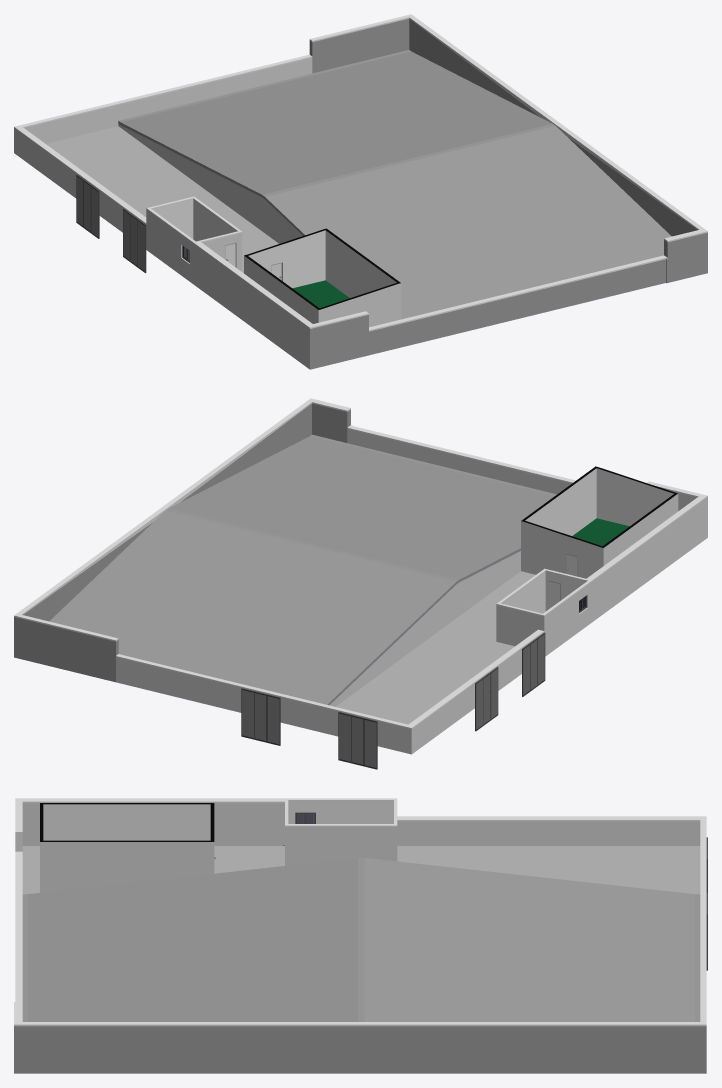
Rendered from soulbrain_T2-12 A-4F.glb.
3 renders of one model, top to bottom at view 1: azimuth 30°, elevation 25°; view 2: azimuth 150°, elevation 25°; view 3: azimuth 270°, elevation 25°, orthographic. The views are drawn at different scales.
Parts seen in each view (by area): view 1: T2-12-A-RF_Wall, T2-12-A-RF_Floor, T2-12-A-RF_Exterior; view 2: T2-12-A-RF_Wall, T2-12-A-RF_Floor, T2-12-A-RF_Exterior; view 3: T2-12-A-RF_Wall, T2-12-A-RF_Floor.
Boxes of the visible parts, bbox=[...] form: T2-12-A-RF_Wall: bbox=[14, 14, 707, 369]; T2-12-A-RF_Floor: bbox=[46, 126, 349, 308]; T2-12-A-RF_Exterior: bbox=[76, 174, 146, 273]; T2-12-A-RF_Wall: bbox=[14, 398, 707, 754]; T2-12-A-RF_Floor: bbox=[336, 518, 629, 724]; T2-12-A-RF_Exterior: bbox=[241, 632, 545, 769]; T2-12-A-RF_Wall: bbox=[14, 798, 706, 1073]; T2-12-A-RF_Floor: bbox=[22, 846, 700, 894].
Size of the model in its own units: 30.83 by 5.7 by 39.83.
Materials: 11 (1 with a texture image).
